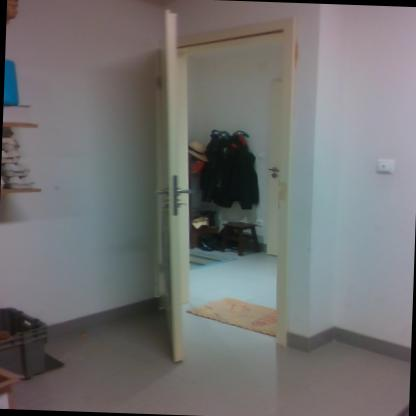semi: (134, 11, 297, 374)
